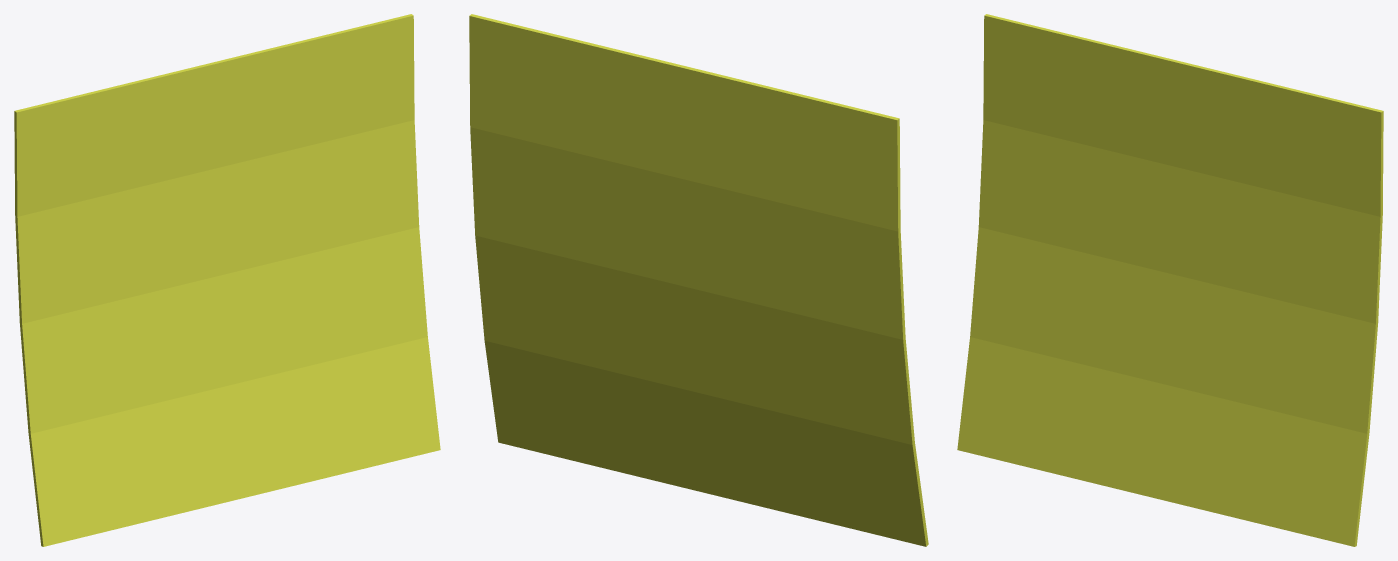
File: tmp_postit.fbx
The picture shows the model from 3 angles, left to right: view 1: azimuth 30°, elevation 25°; view 2: azimuth 150°, elevation 25°; view 3: azimuth 330°, elevation 25°; orthographic projection. The views are drawn at different scales.
Parts seen in each view (by area): view 1: Plane; view 2: Plane; view 3: Plane.
Part boxes in pixels (x1,y1,x2,y2): Plane: (14, 14, 440, 546); Plane: (469, 14, 928, 546); Plane: (957, 14, 1383, 546).
Bounding box in the file's own units: 20 × 20 × 2.54.
